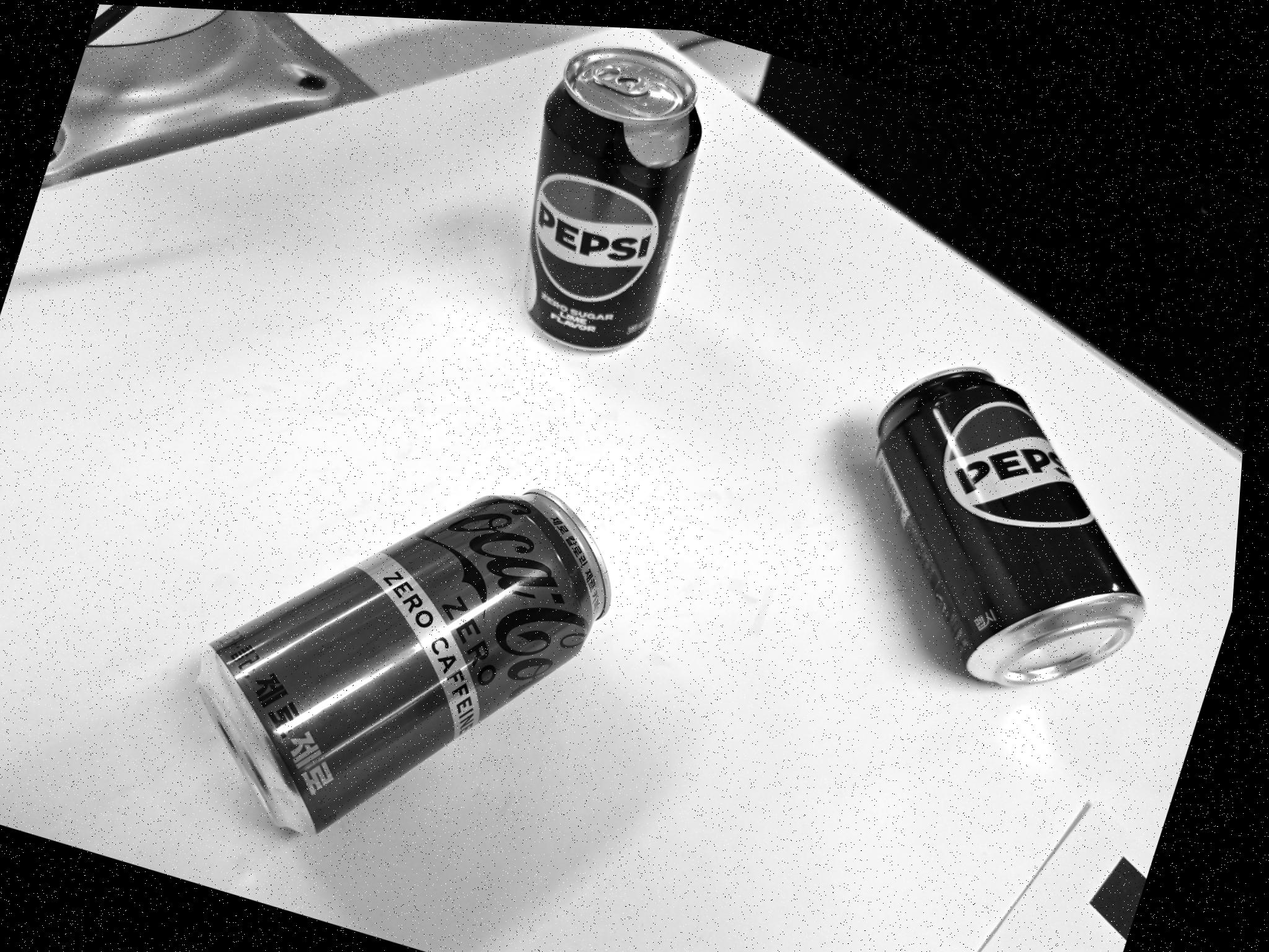can_coke_decaf: (193, 487, 612, 836)
can_pepsi: (878, 363, 1146, 687)
can_pepsi_zero: (520, 37, 707, 352)
